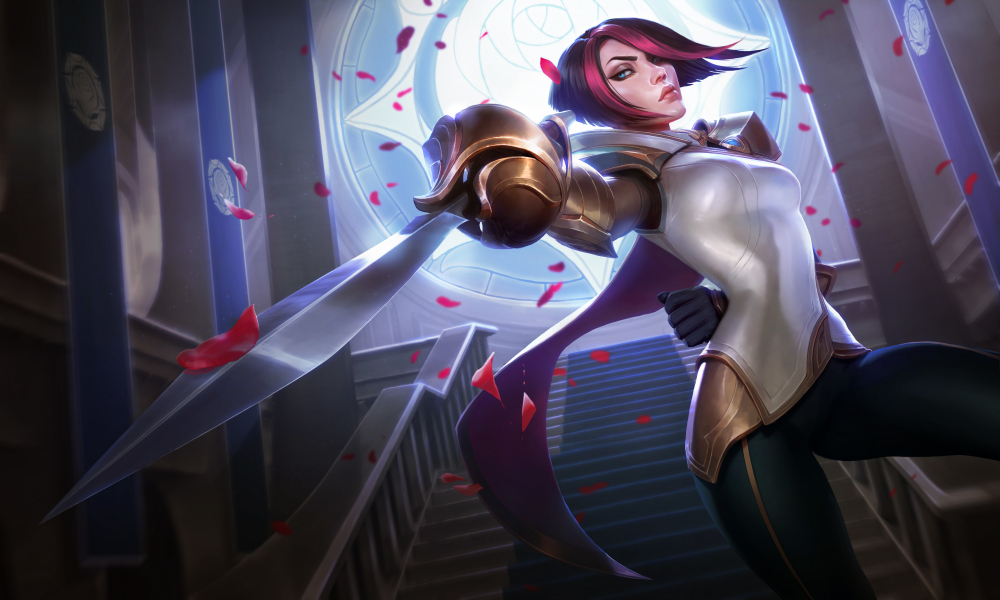face: (541, 8, 780, 159)
